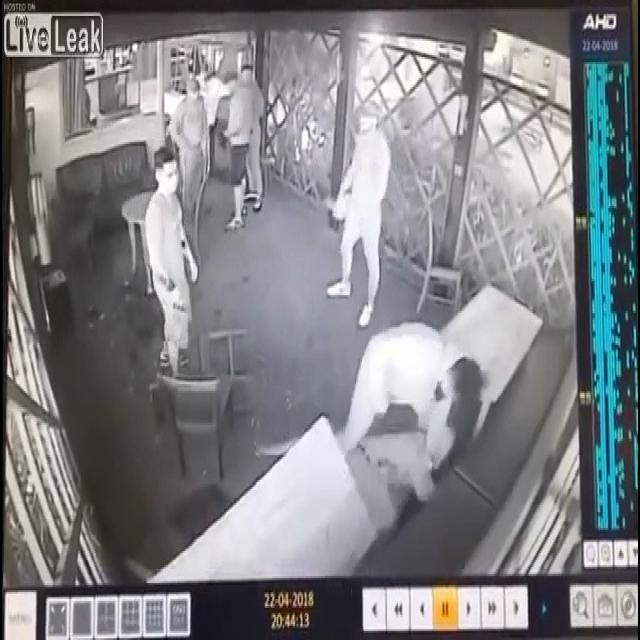fight: (325, 293, 521, 502)
